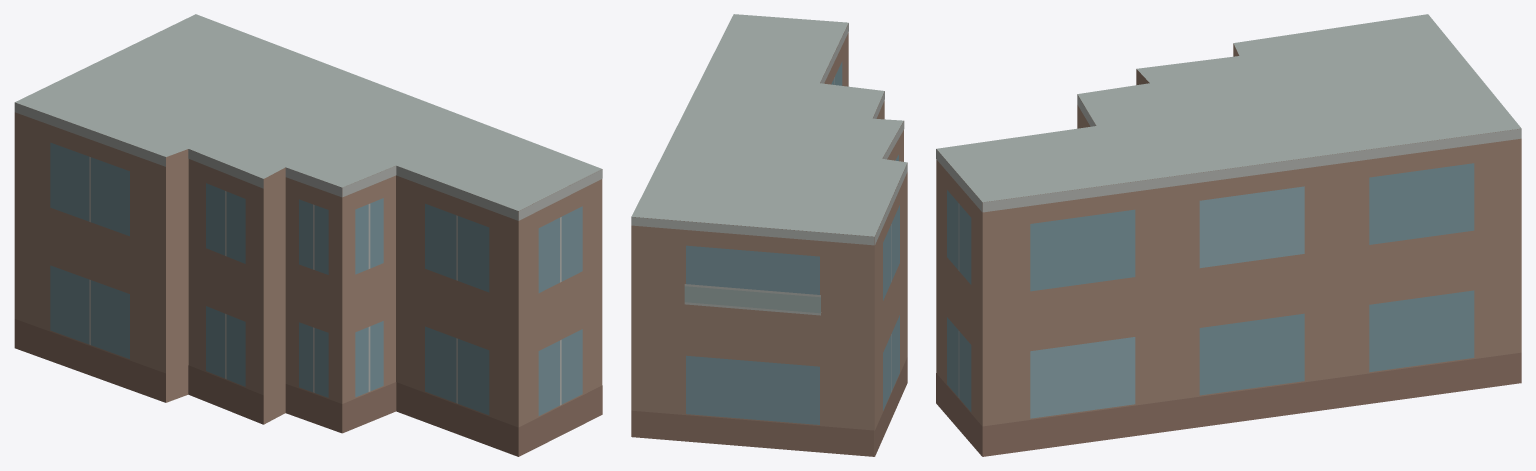
Rendered from survey-upis-32721857.glb.
3 renders of one model, left to right at view 1: azimuth 30°, elevation 25°; view 2: azimuth 150°, elevation 25°; view 3: azimuth 270°, elevation 25°, orthographic. The views are drawn at different scales.
Parts seen in each view (by area): view 1: survey-upis-32721857.tmp; view 2: survey-upis-32721857.tmp; view 3: survey-upis-32721857.tmp.
Boxes of the visible parts, x1,y1,x2,y2 form: survey-upis-32721857.tmp: (14,14,602,456); survey-upis-32721857.tmp: (631,14,907,456); survey-upis-32721857.tmp: (936,14,1521,456).
Bounding box in the file's own units: 9.69 × 6.1 × 12.73.
